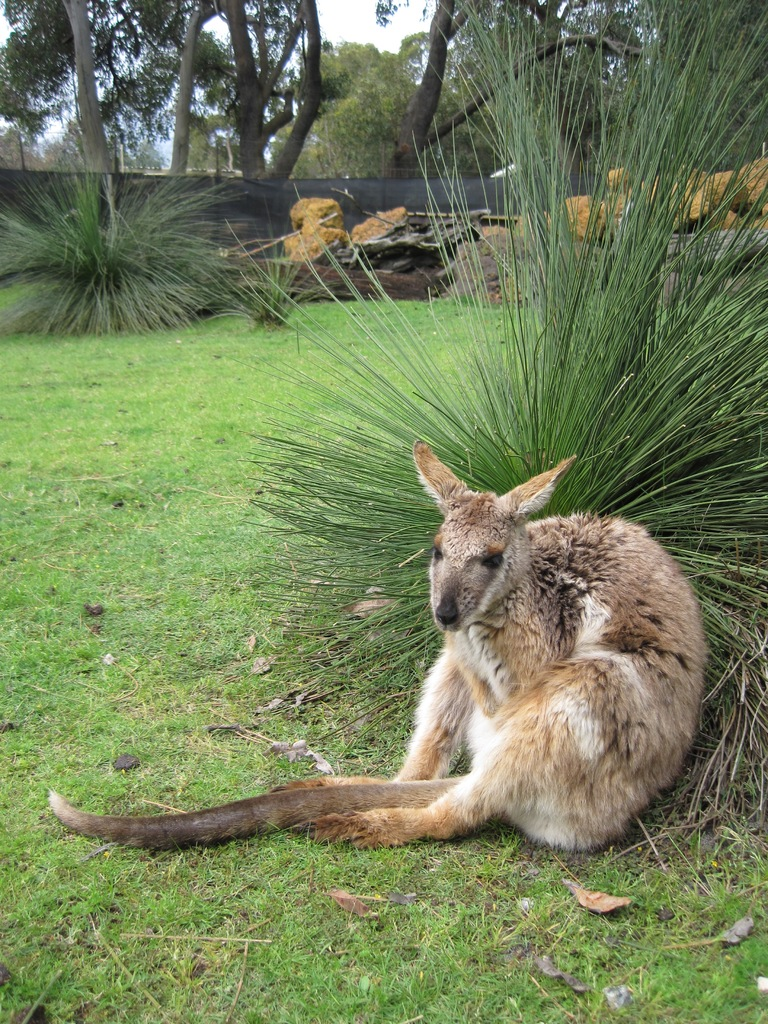kangaroo: (39, 435, 711, 853)
